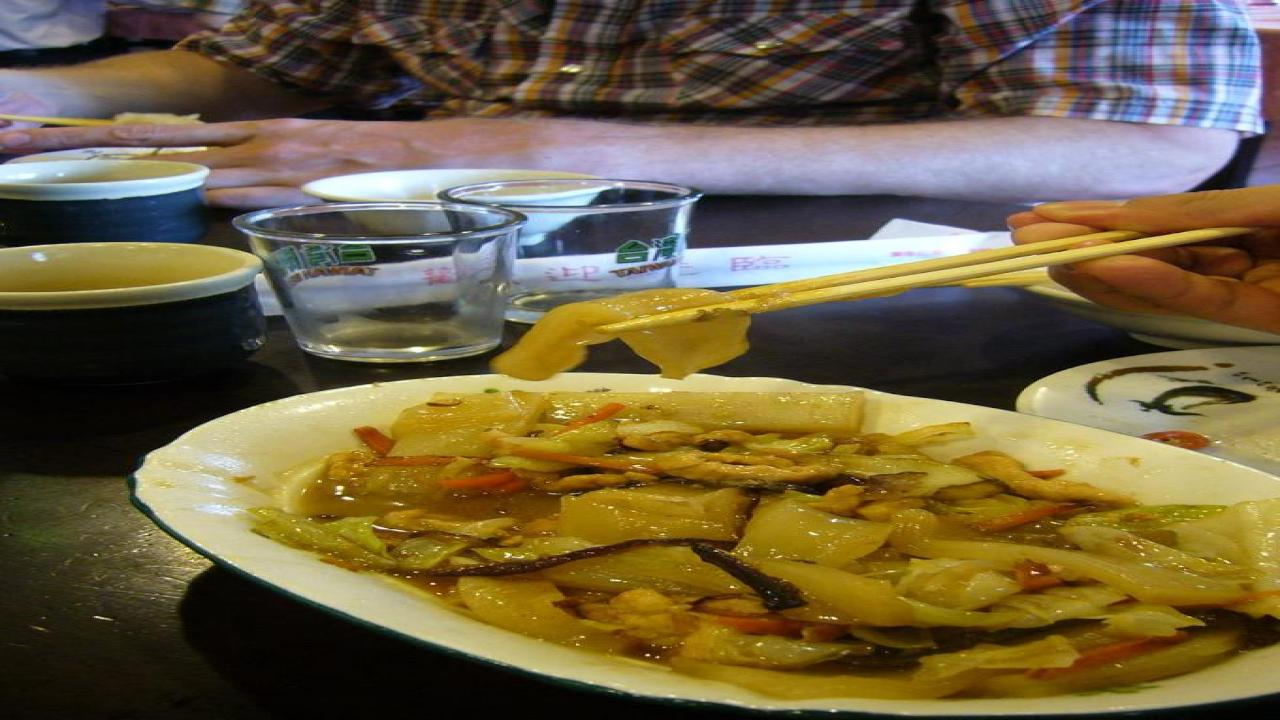chopstick: (602, 222, 1264, 336), (2, 110, 149, 128)
